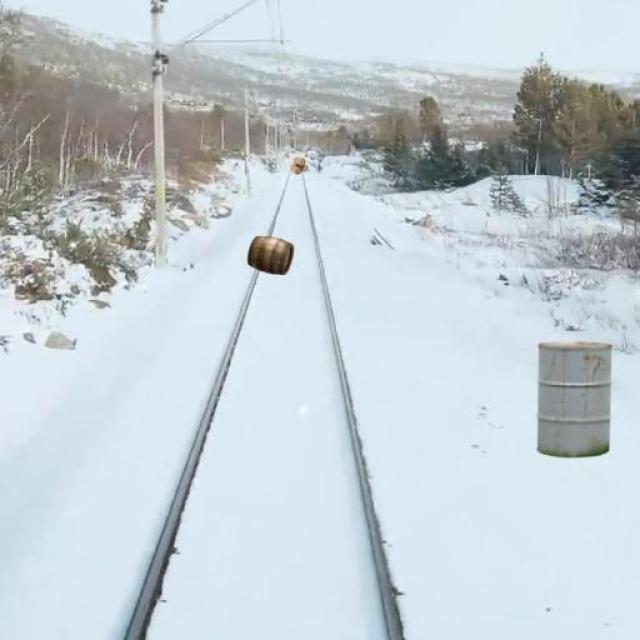Other_objects: (526, 329, 624, 466), (235, 227, 302, 280), (285, 154, 311, 179)
